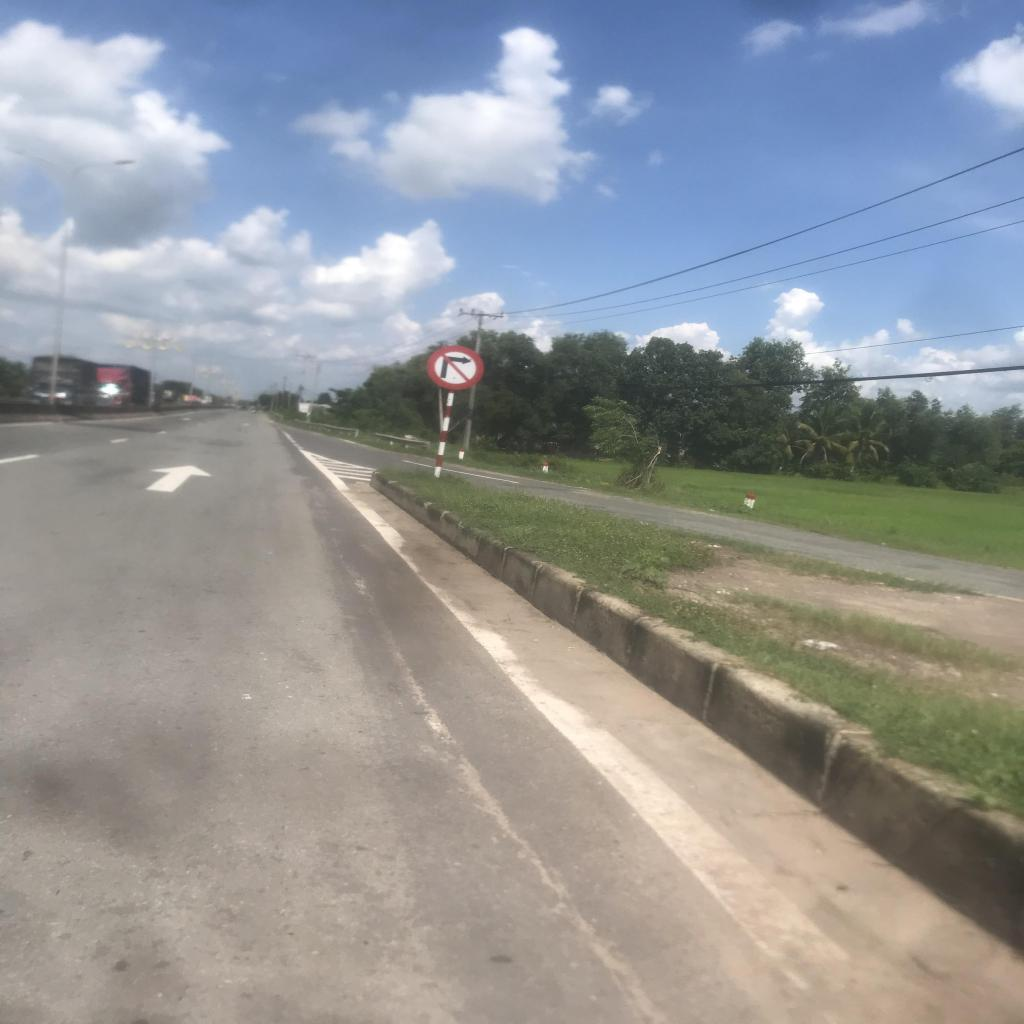cam_re_phai: (426, 345, 486, 392)
